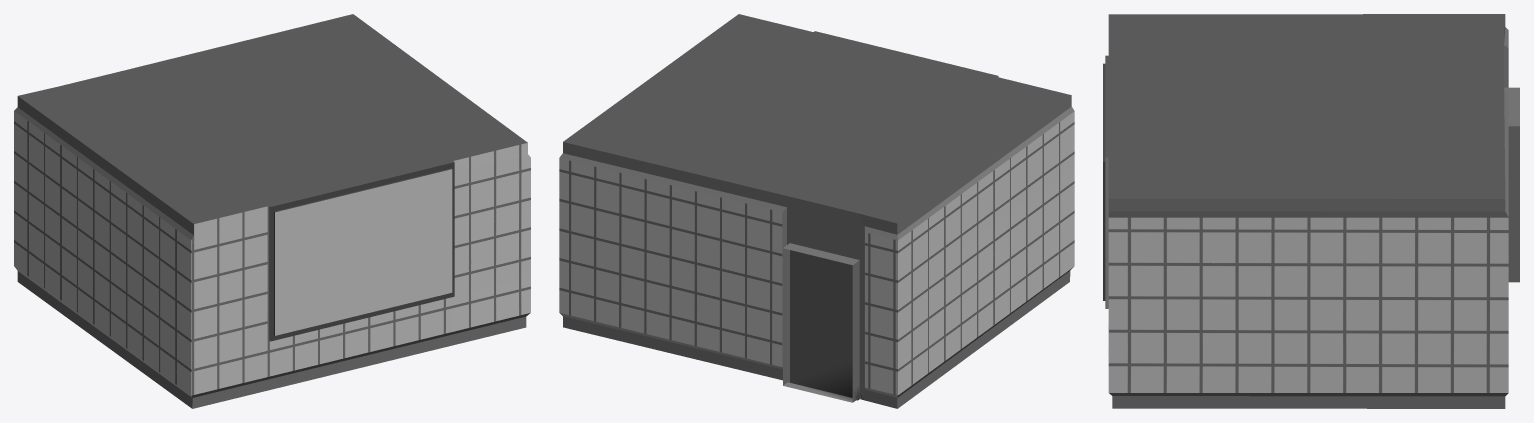
File: BathroomModel.fbx
3 renders of one model, left to right at view 1: azimuth 30°, elevation 25°; view 2: azimuth 150°, elevation 25°; view 3: azimuth 270°, elevation 25°, orthographic. The views are drawn at different scales.
Visible parts, largest first — view 1: BathroomModel; view 2: BathroomModel; view 3: BathroomModel.
Boxes of the visible parts, <box> form: BathroomModel: <box>14,14,530,408</box>; BathroomModel: <box>559,14,1074,408</box>; BathroomModel: <box>1103,14,1519,408</box>.
Size of the model in its own units: 580 by 303 by 546.
